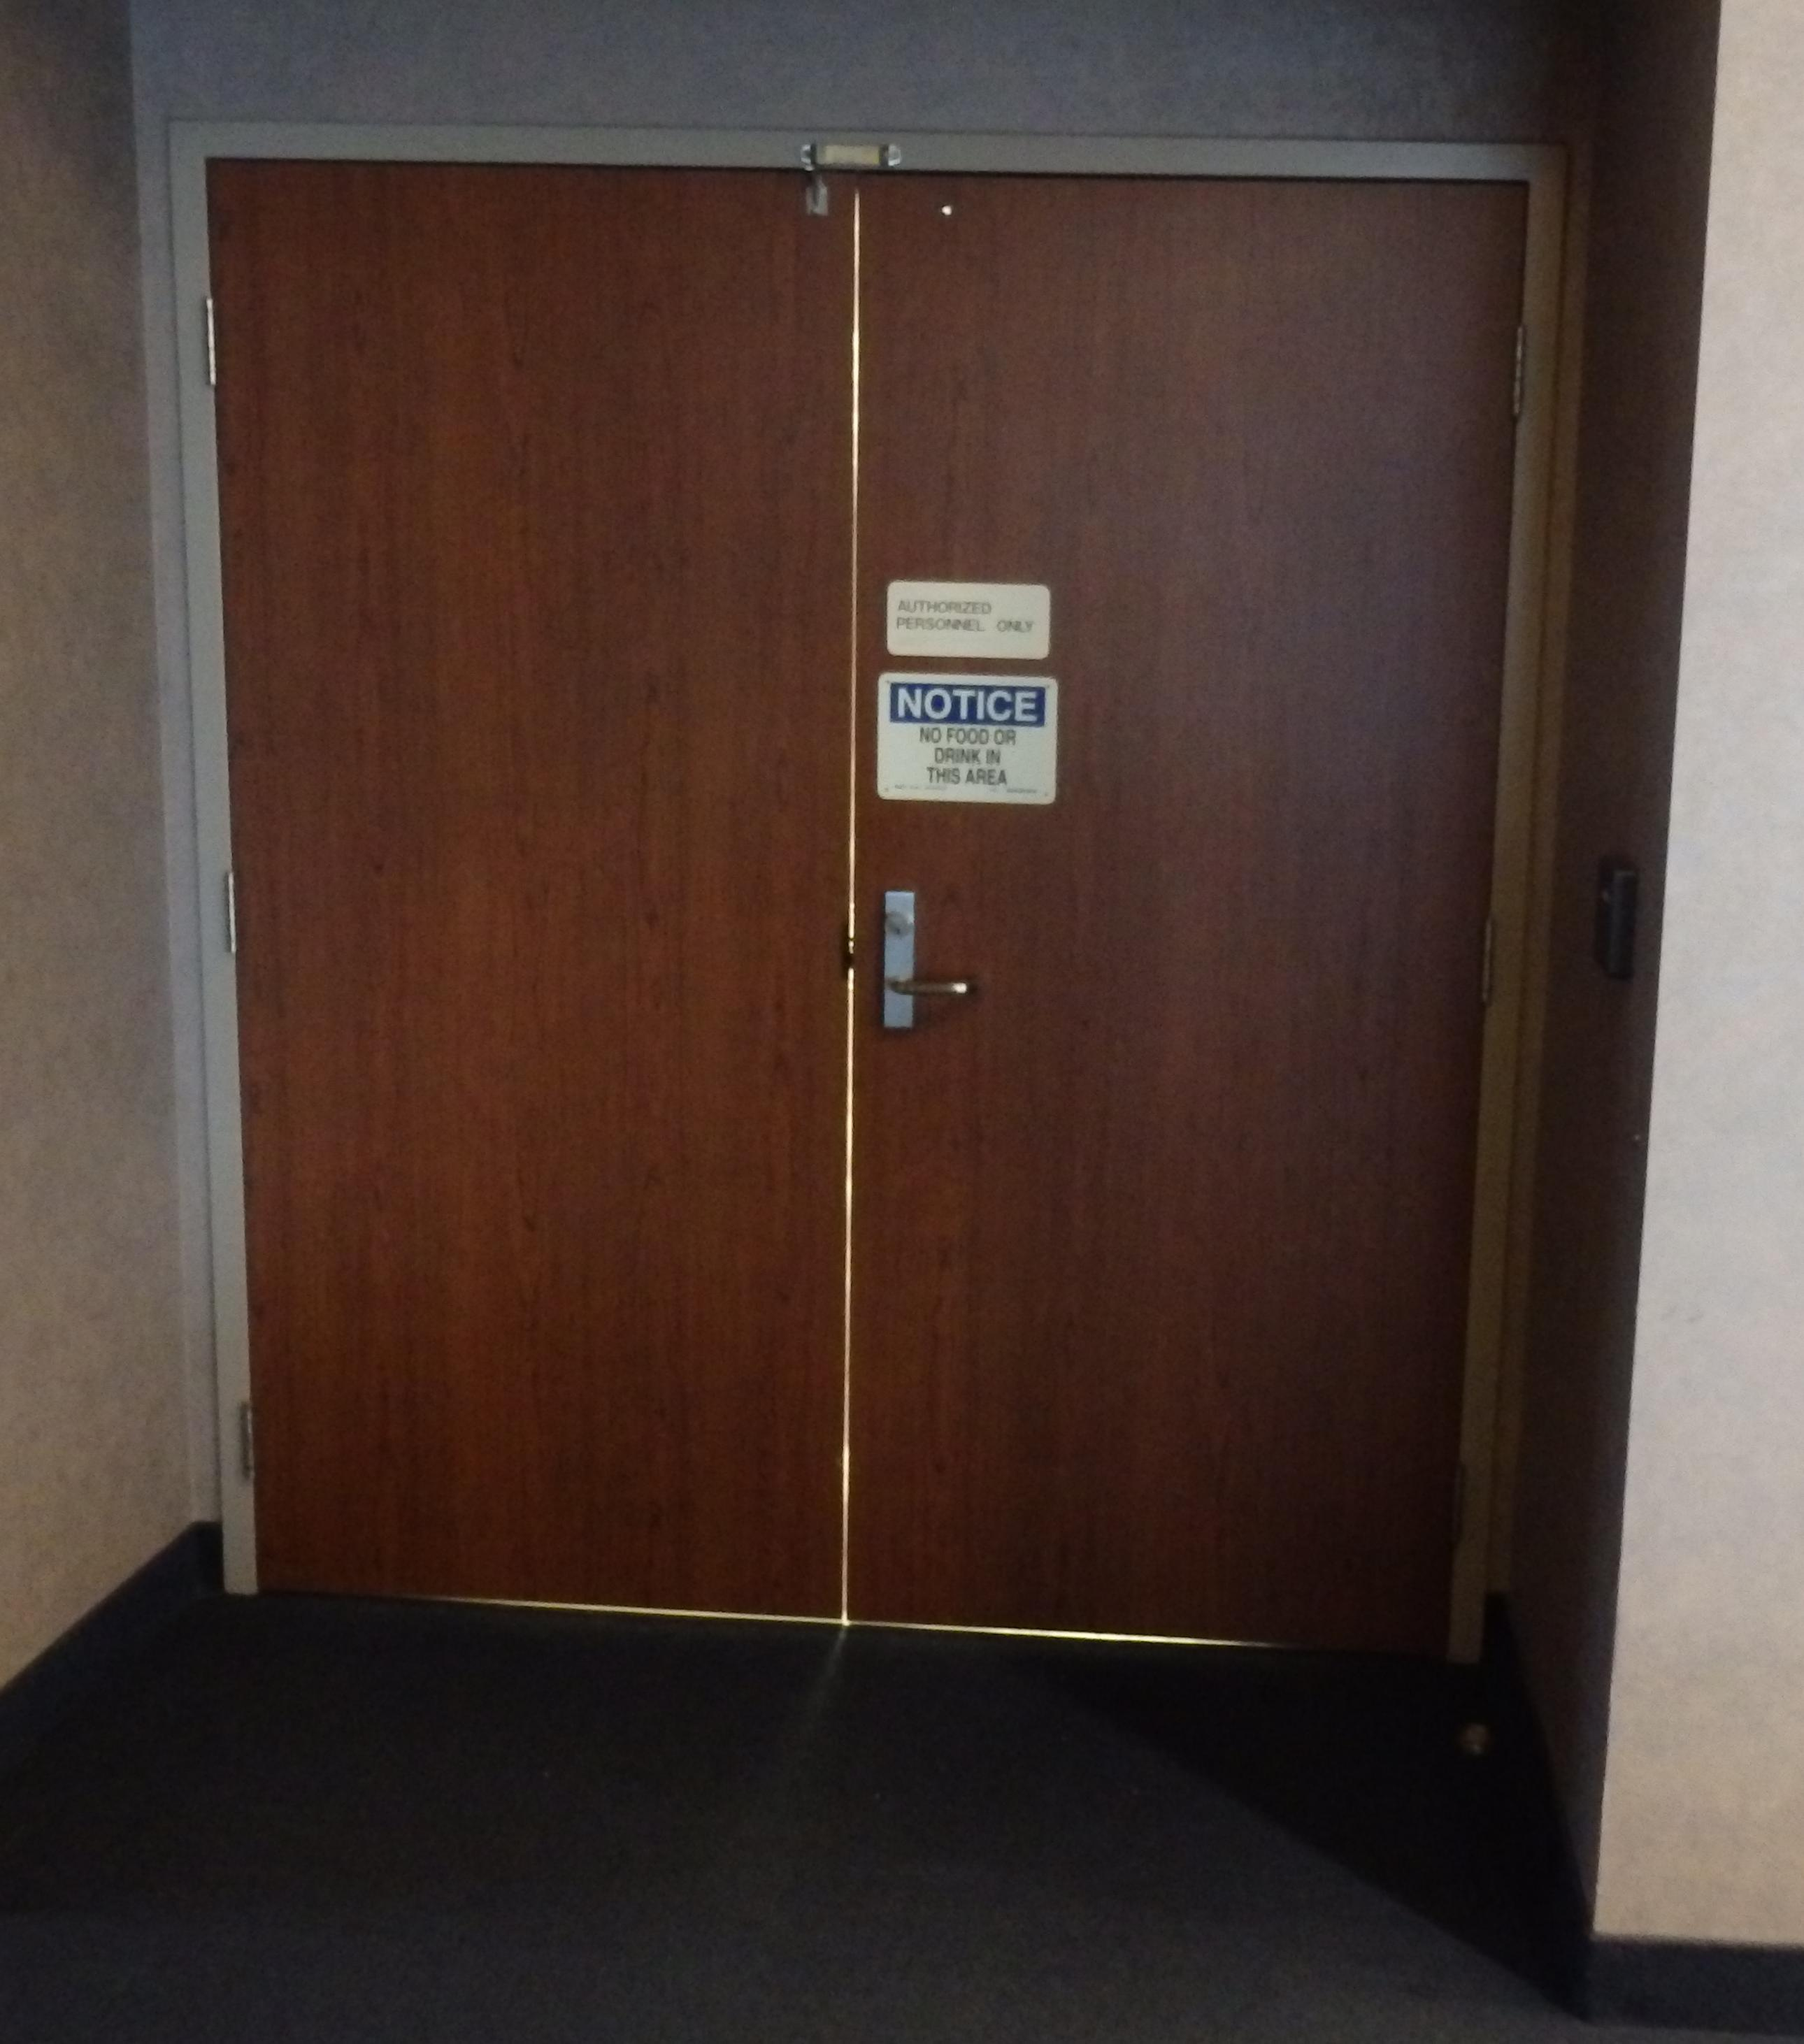door: (167, 117, 1515, 1675)
